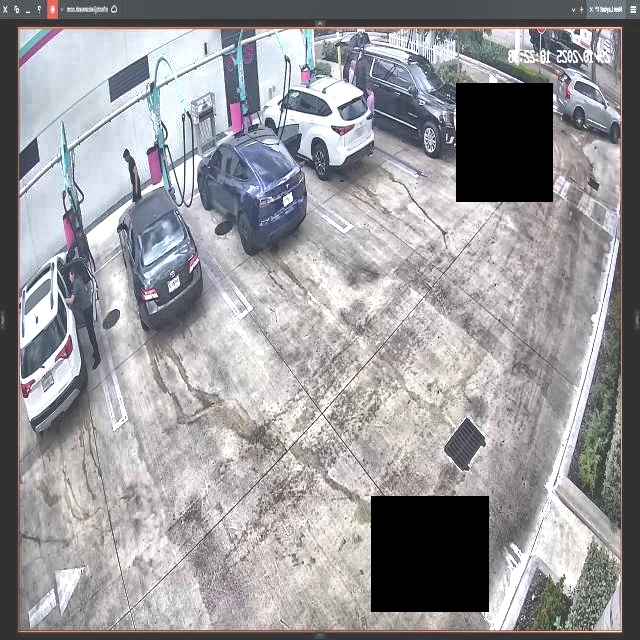Car: (197, 125, 305, 249), (117, 186, 201, 332), (263, 83, 373, 178)
